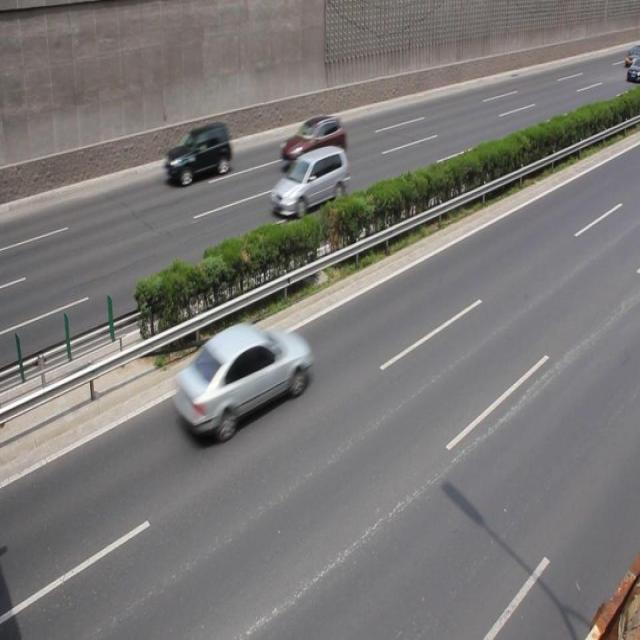car: (171, 323, 311, 441), (269, 145, 350, 219), (164, 125, 233, 187), (278, 112, 346, 174)
